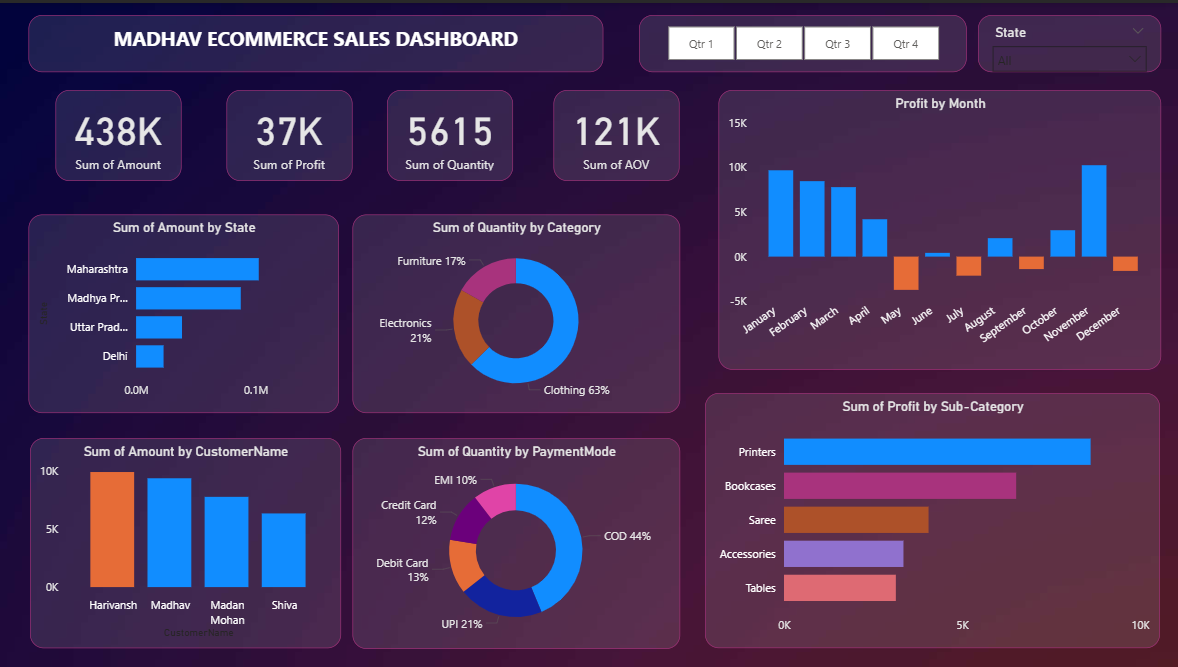

The page's visual inventory and layout, read from the dashboard file:
{"tool":"powerbi","page":{"name":"Page 1","canvas":[1280,720],"ordinal":0},"visuals":[{"type":"textbox","box":[31.7,13.3,623.3,61.7],"z":0},{"type":"columnChart","title":"Profit by Month","fields":{"Category":["Orders.Order Date.Variation.Date Hierarchy.Month","Orders.Order Date.Variation.Date Hierarchy.Day"],"Y":["Details.Profit"]},"box":[778.3,95,480,303.3],"z":1000},{"type":"barChart","fields":{"Category":["Details.Sub-Category"],"Y":["Details.Profit"]},"box":[765,423.3,493.3,276.7],"z":2000},{"type":"donutChart","fields":{"Category":["Details.PaymentMode"],"Y":["Details.Quantity"]},"box":[381.7,471.7,355,228.3],"z":3000},{"type":"donutChart","fields":{"Category":["Details.Category"],"Y":["Details.Quantity"]},"box":[381.7,230,355,215],"z":4000},{"type":"card","fields":{"Values":["Details.Amount"]},"box":[60,95,136.7,98.3],"z":5000},{"type":"card","fields":{"Values":["Details.Profit"]},"box":[245,95,136.7,98.3],"z":6000},{"type":"card","fields":{"Values":["Details.Quantity"]},"box":[420,95,136.7,98.3],"z":7000},{"type":"card","fields":{"Values":["Details.AOV"]},"box":[600,95,136.7,98.3],"z":8000},{"type":"barChart","fields":{"Category":["Orders.State"],"Y":["Details.Amount"]},"box":[31.7,230,336.7,215],"z":9000},{"type":"columnChart","fields":{"Category":["Orders.CustomerName"],"Y":["Details.Amount"]},"box":[32,472,337,228],"z":10000},{"type":"slicer","fields":{"Values":["Orders.Order Date.Variation.Date Hierarchy.Quarter"]},"box":[693.3,13.3,355,61.7],"z":10001},{"type":"slicer","fields":{"Values":["Orders.State"]},"box":[1060,13.3,198.3,61.7],"z":10002}]}

Visuals, with their boxes in screenshot pixels (x1, y1, x2, y2), scaled from the page's 1280x720 canvas onto the 1178x667 screenshot:
textbox: [x1=29, y1=12, x2=603, y2=69]
"Profit by Month" columnChart: [x1=716, y1=88, x2=1158, y2=369]
barChart - Details.Sub-Category x Details.Profit: [x1=704, y1=392, x2=1158, y2=648]
donutChart - Details.PaymentMode x Details.Quantity: [x1=351, y1=437, x2=678, y2=648]
donutChart - Details.Category x Details.Quantity: [x1=351, y1=213, x2=678, y2=412]
card - Details.Amount: [x1=55, y1=88, x2=181, y2=179]
card - Details.Profit: [x1=225, y1=88, x2=351, y2=179]
card - Details.Quantity: [x1=387, y1=88, x2=512, y2=179]
card - Details.AOV: [x1=552, y1=88, x2=678, y2=179]
barChart - Orders.State x Details.Amount: [x1=29, y1=213, x2=339, y2=412]
columnChart - Orders.CustomerName x Details.Amount: [x1=29, y1=437, x2=340, y2=648]
slicer - Orders.Order Date.Variation.Date Hierarchy.Quarter: [x1=638, y1=12, x2=965, y2=69]
slicer - Orders.State: [x1=976, y1=12, x2=1158, y2=69]
